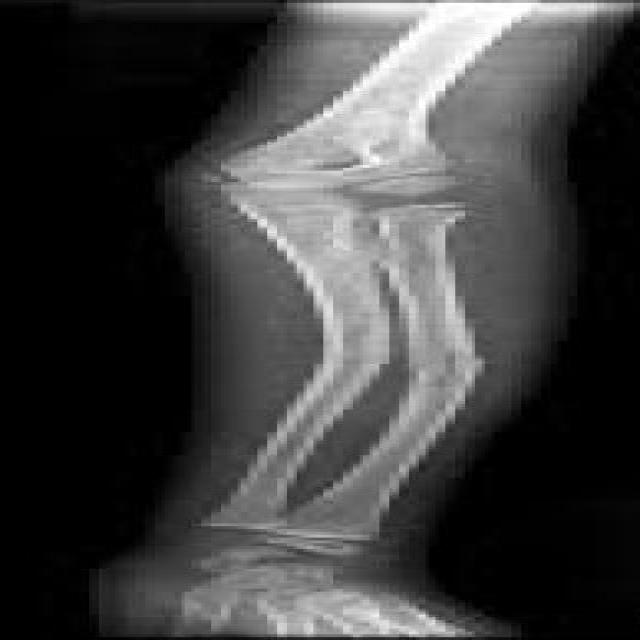Greenstick: (255, 292, 525, 412)
